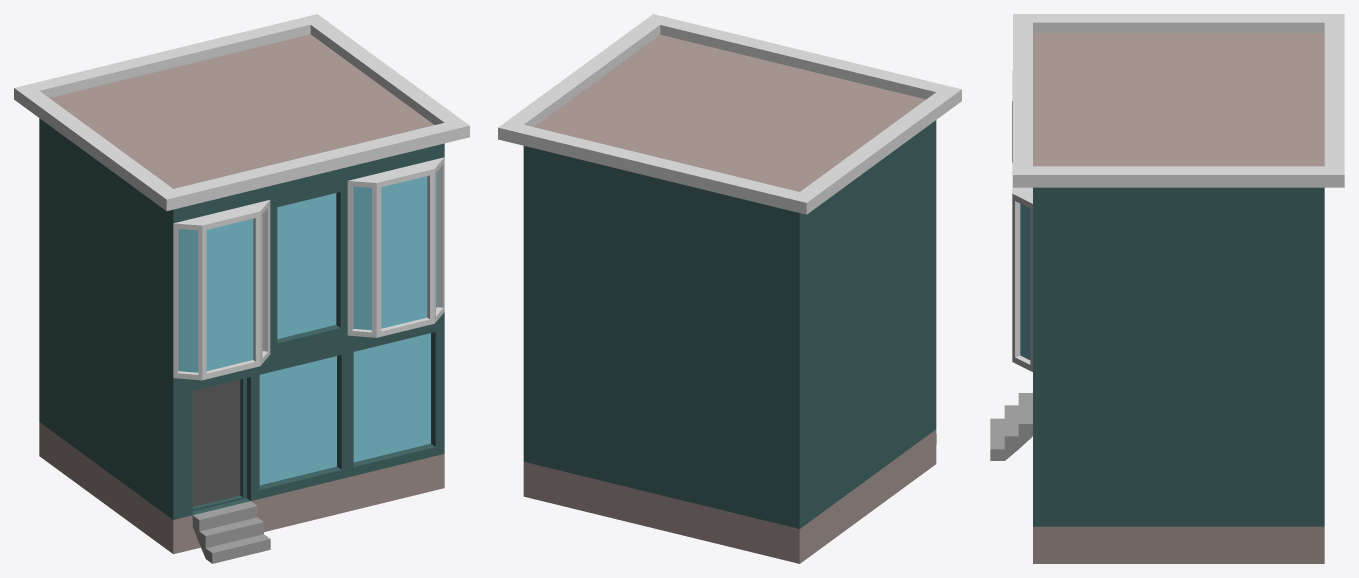
The model's file is Building5.fbx.
The picture shows the model from 3 angles, left to right: view 1: azimuth 30°, elevation 25°; view 2: azimuth 150°, elevation 25°; view 3: azimuth 270°, elevation 25°; orthographic projection. The views are drawn at different scales.
Visible parts, largest first — view 1: pCube5; view 2: pCube5; view 3: pCube5.
Boxes of the visible parts, bbox=[...] form: pCube5: bbox=[14, 14, 469, 563]; pCube5: bbox=[498, 14, 961, 563]; pCube5: bbox=[990, 14, 1344, 563].
Size of the model in its own units: 626 by 721 by 583.
